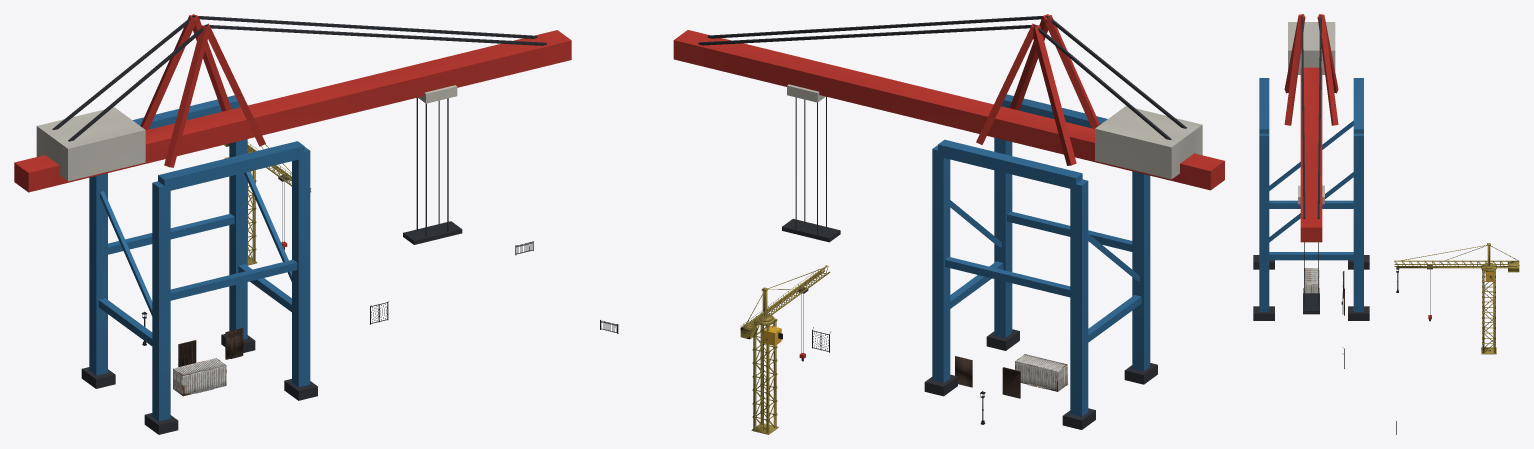
File: _PaqueteArena.fbx
3 views of the same model, side by side, from view 1: azimuth 30°, elevation 25°; view 2: azimuth 150°, elevation 25°; view 3: azimuth 270°, elevation 25° (orthographic). The views are drawn at different scales.
Visible parts, largest first — view 1: Grua_Portico, Contenedor, Grua_Estructura, Galpon_ParedPorton; view 2: Grua_Portico, Grua_Estructura, Contenedor; view 3: Grua_Portico, Grua_Estructura, Contenedor.
Boxes of the visible parts, x1,y1,x2,y2 form: Grua_Portico: (14, 14, 571, 434); Contenedor: (173, 358, 226, 396); Grua_Estructura: (224, 142, 311, 265); Galpon_ParedPorton: (225, 328, 243, 359); Grua_Portico: (673, 14, 1224, 429); Grua_Estructura: (740, 265, 830, 434); Contenedor: (1015, 354, 1067, 391); Grua_Portico: (1253, 14, 1369, 320); Grua_Estructura: (1394, 243, 1519, 354); Contenedor: (1304, 268, 1319, 293).
Size of the model in its own units: 262 by 161 by 141.
16 materials, 16 textured.
